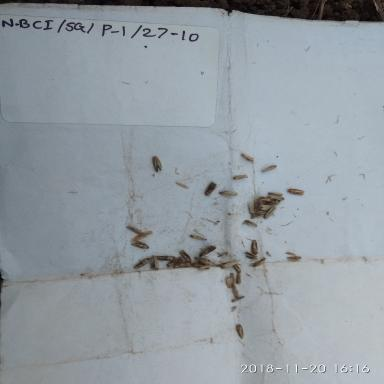pbw: (204, 180, 224, 197), (149, 156, 165, 174), (196, 245, 218, 257), (217, 260, 238, 271), (262, 206, 278, 220), (147, 255, 161, 271), (247, 238, 260, 255), (133, 257, 150, 270), (124, 224, 146, 234), (286, 186, 306, 197), (217, 188, 239, 198), (166, 258, 183, 269), (178, 249, 192, 262), (234, 324, 246, 339), (260, 164, 278, 174), (224, 272, 235, 288), (188, 234, 208, 242), (240, 153, 256, 163), (193, 255, 212, 263), (231, 174, 250, 182), (191, 262, 210, 270), (284, 254, 302, 262), (241, 250, 257, 259), (252, 258, 266, 268), (156, 254, 176, 261), (260, 203, 277, 211), (134, 241, 151, 249), (243, 219, 258, 228), (230, 286, 240, 298), (252, 208, 267, 216), (231, 263, 242, 273), (174, 262, 191, 268), (256, 196, 272, 202), (199, 260, 215, 266), (267, 199, 280, 206), (230, 296, 245, 302), (251, 213, 266, 219), (269, 195, 284, 201), (269, 191, 284, 197), (236, 271, 242, 285), (248, 203, 255, 214), (252, 197, 259, 208)
